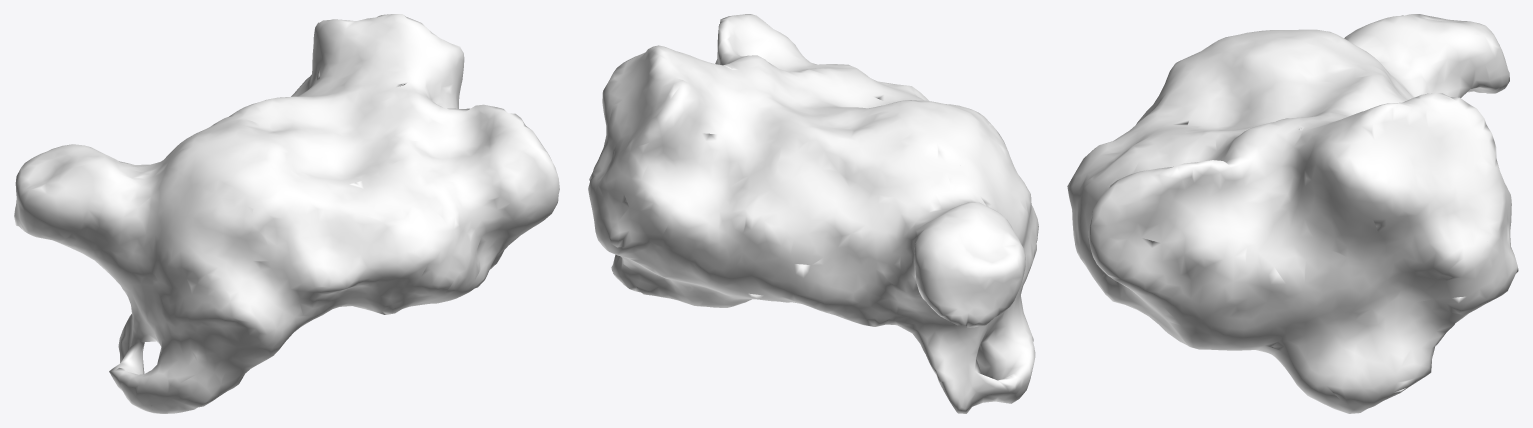
Rendered from rotating_heart.glb.
The picture shows the model from 3 angles, left to right: view 1: azimuth 30°, elevation 25°; view 2: azimuth 150°, elevation 25°; view 3: azimuth 270°, elevation 25°; orthographic projection. The views are drawn at different scales.
Visible parts, largest first — view 1: Heart_1.002; view 2: Heart_1.002; view 3: Heart_1.002.
Part boxes in pixels (x1=…): Heart_1.002: x1=14, y1=14, x2=559, y2=413; Heart_1.002: x1=588, y1=14, x2=1038, y2=413; Heart_1.002: x1=1067, y1=14, x2=1518, y2=413.
Size of the model in its own units: 2.07 by 1.41 by 1.62.
1 material, 1 textured.
